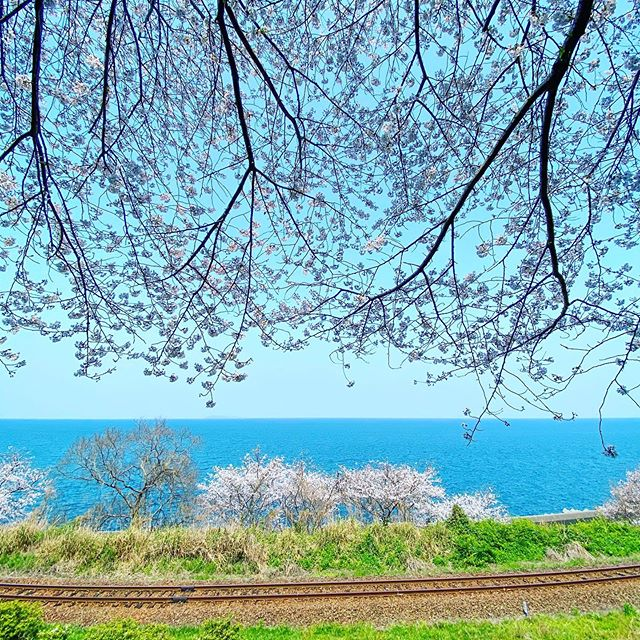flowers: (1, 1, 627, 400)
sea: (1, 419, 629, 520)
train track: (8, 555, 640, 614)
tree: (53, 426, 197, 534), (200, 456, 291, 530), (338, 460, 438, 527), (278, 462, 341, 526)
